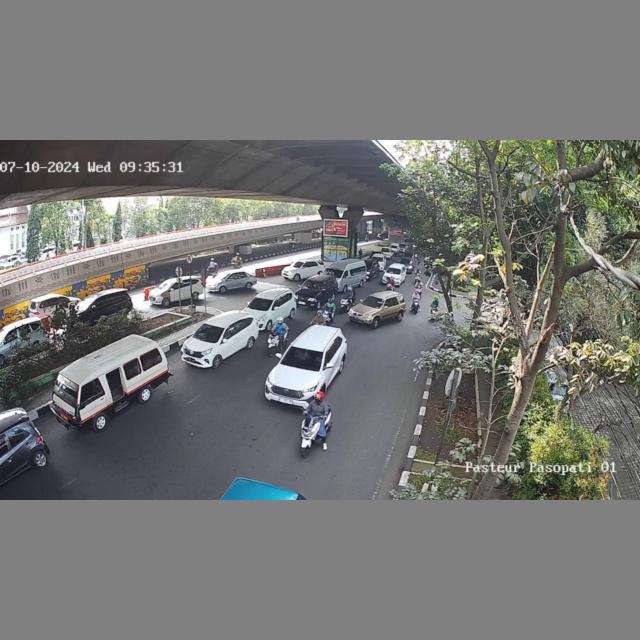windshield: (282, 345, 327, 372), (52, 373, 82, 405), (195, 324, 223, 342), (248, 297, 271, 311), (362, 295, 384, 309), (303, 279, 323, 290), (387, 267, 402, 275)
